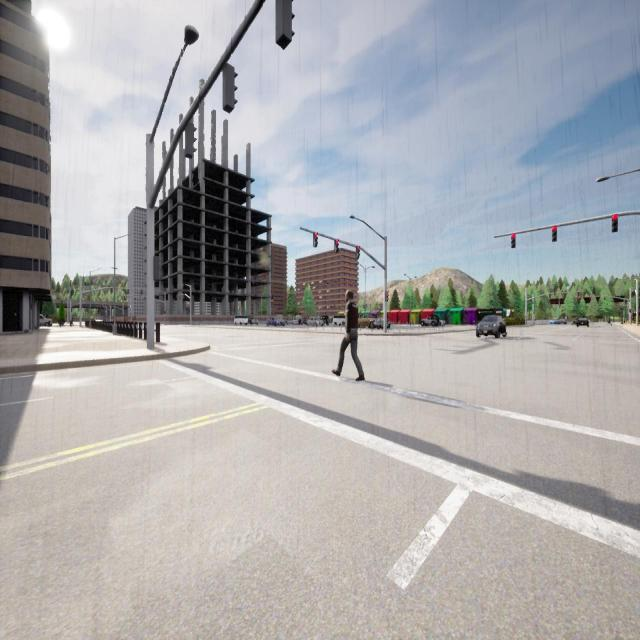Pedestrian: (332, 291, 364, 379)
Vehicle: (477, 315, 506, 337), (372, 318, 389, 329), (421, 316, 437, 326), (266, 318, 284, 326), (40, 314, 51, 326), (358, 318, 372, 327), (307, 318, 322, 326), (334, 314, 344, 326), (577, 318, 589, 327), (234, 316, 247, 324), (321, 316, 329, 326), (287, 319, 298, 325), (558, 319, 567, 324), (252, 318, 258, 325), (550, 320, 556, 324)
traffic_light: (275, 0, 296, 50), (223, 64, 238, 112), (185, 123, 197, 159), (154, 256, 160, 280), (612, 215, 618, 232), (552, 226, 557, 241), (314, 232, 318, 247), (511, 233, 515, 248), (334, 239, 338, 253), (356, 246, 360, 258), (385, 290, 388, 302), (134, 295, 136, 299), (164, 310, 166, 314), (604, 297, 606, 300), (578, 296, 580, 299), (124, 296, 126, 299), (590, 296, 592, 298), (630, 310, 631, 312)
